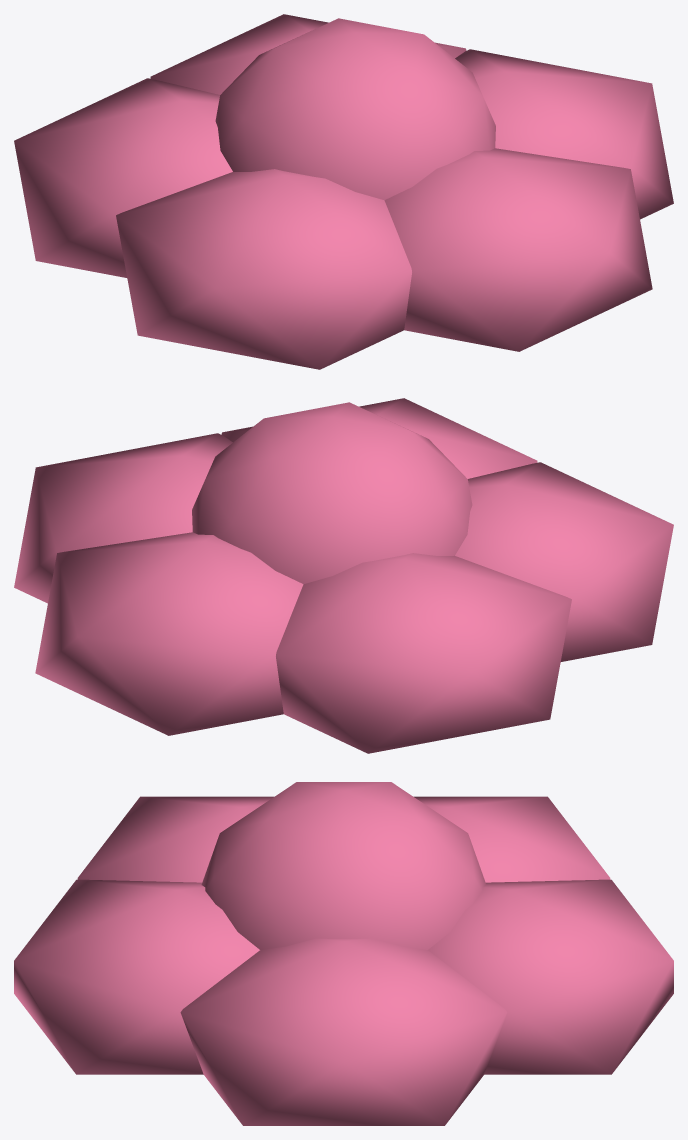
Rendered from flower.glb.
3 views of the same model, one above another, from view 1: azimuth 30°, elevation 25°; view 2: azimuth 150°, elevation 25°; view 3: azimuth 270°, elevation 25° (orthographic).
Parts seen in each view (by area): view 1: Flower_Bloom; view 2: Flower_Bloom; view 3: Flower_Bloom.
Boxes of the visible parts, box(x1,y1,x2,y2) form: Flower_Bloom: box(14, 14, 673, 369); Flower_Bloom: box(14, 398, 673, 753); Flower_Bloom: box(14, 782, 673, 1125).
Bounding box in the file's own units: 0.1205 × 0.0504 × 0.1204.
